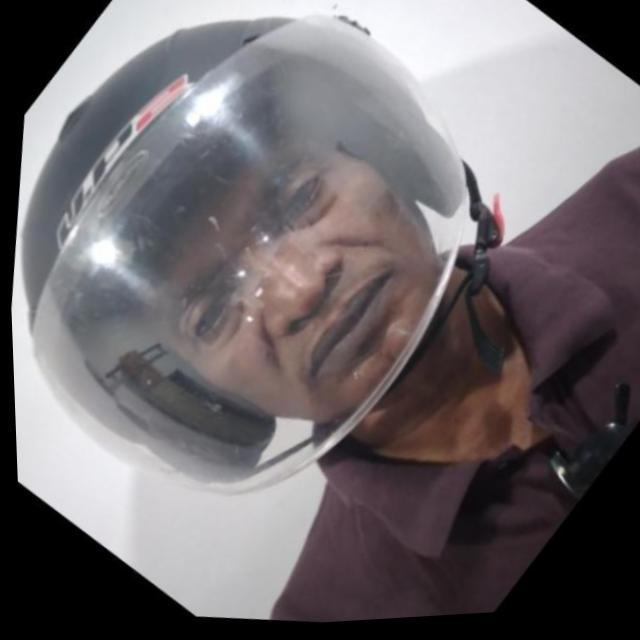with_helmet: (38, 15, 502, 491)
